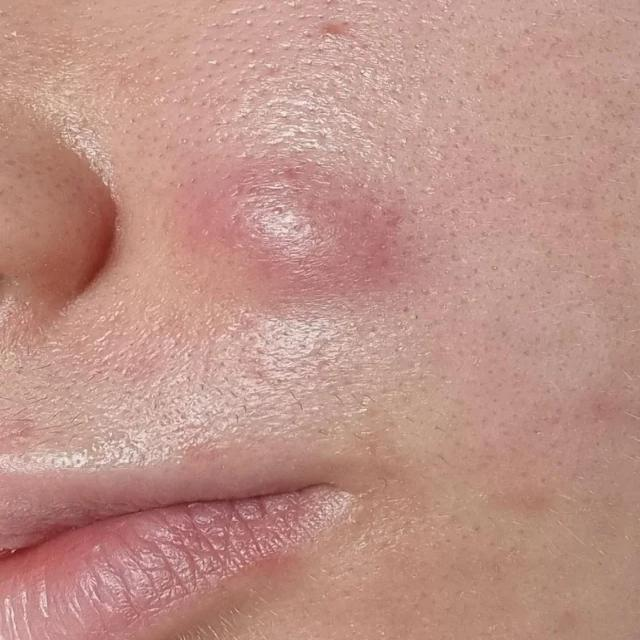nodule: (208, 175, 391, 289)
